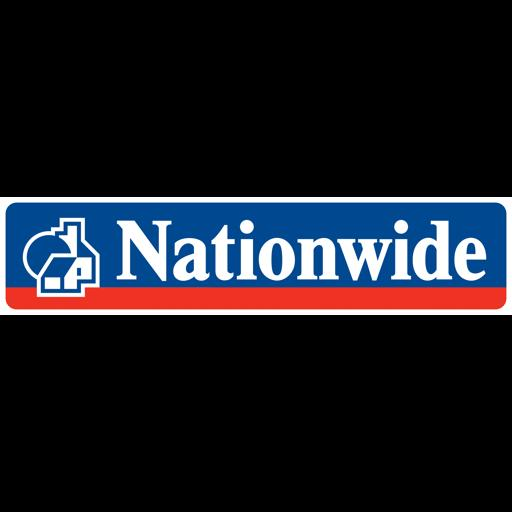Nationwide Building Society: (0, 197, 512, 315)
